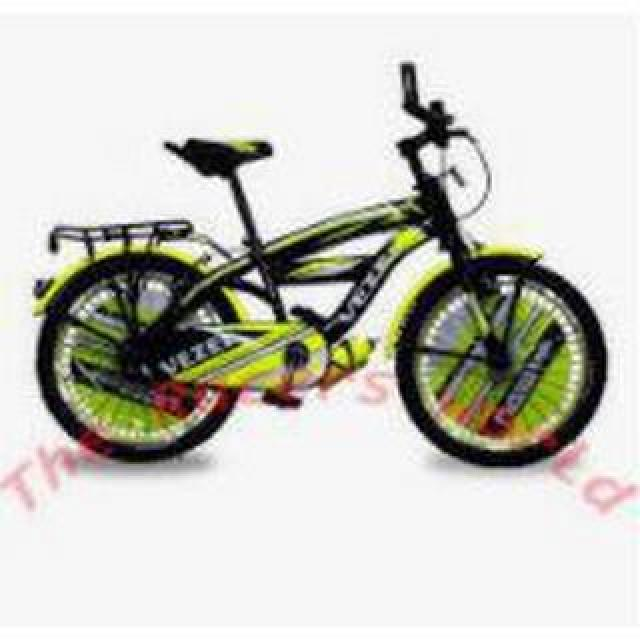Emergency Vehicles-Bike: (12, 66, 638, 482)
Person: (35, 61, 623, 463)
